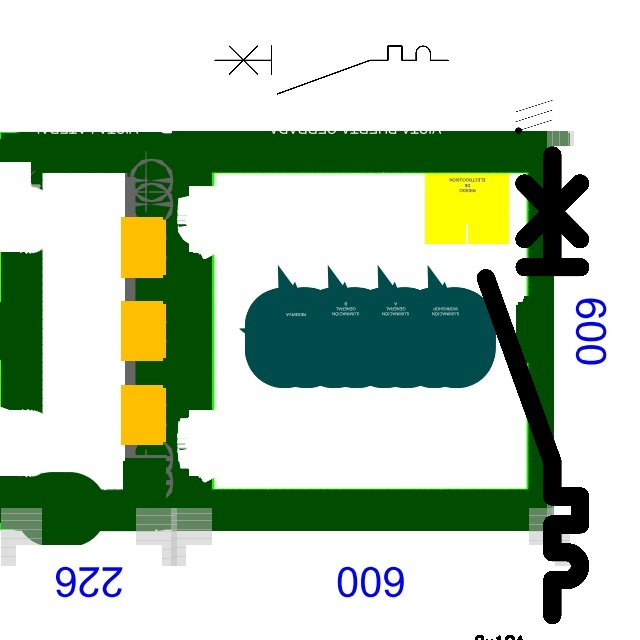interruptor_termomagnetico: (474, 143, 592, 626), (209, 40, 454, 100)
